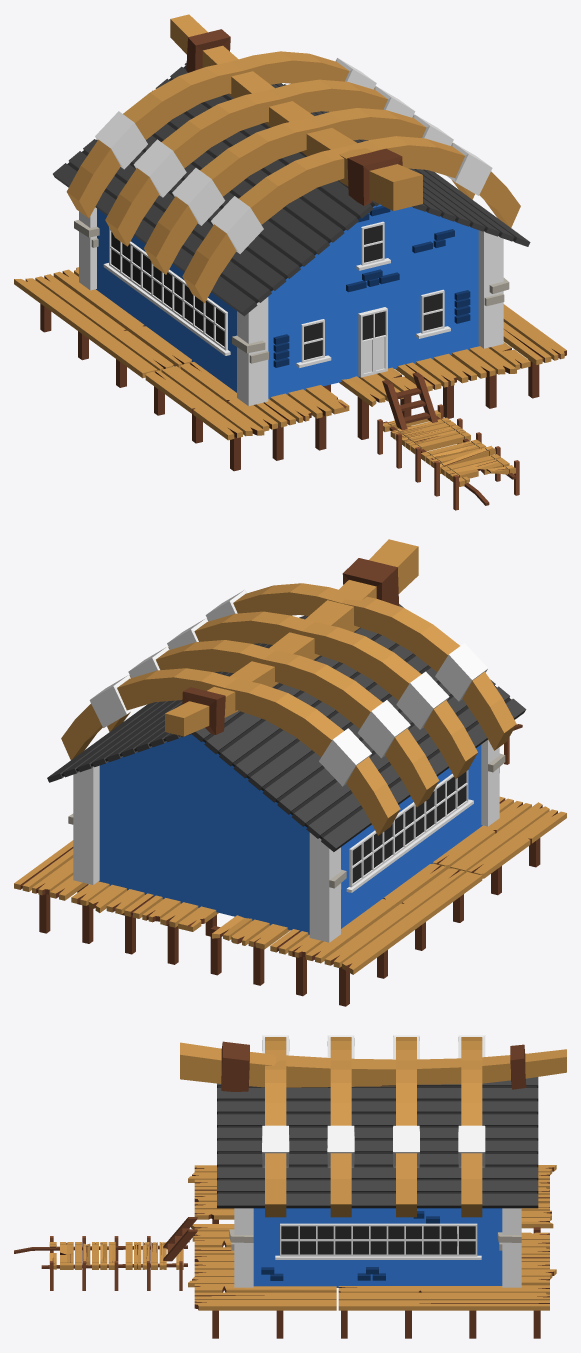
The model's file is House_03.glb.
The picture shows the model from 3 angles, top to bottom: view 1: azimuth 30°, elevation 25°; view 2: azimuth 150°, elevation 25°; view 3: azimuth 270°, elevation 25°; orthographic projection. The views are drawn at different scales.
Parts seen in each view (by area): view 1: Building 4; view 2: Building 4; view 3: Building 4.
Part boxes in pixels (x1=…): Building 4: x1=14, y1=14, x2=566, y2=510; Building 4: x1=14, y1=539, x2=566, y2=1006; Building 4: x1=14, y1=1035, x2=566, y2=1338.
Size of the model in its own units: 56.04 by 42.09 by 92.59.
1 material, 1 textured.
